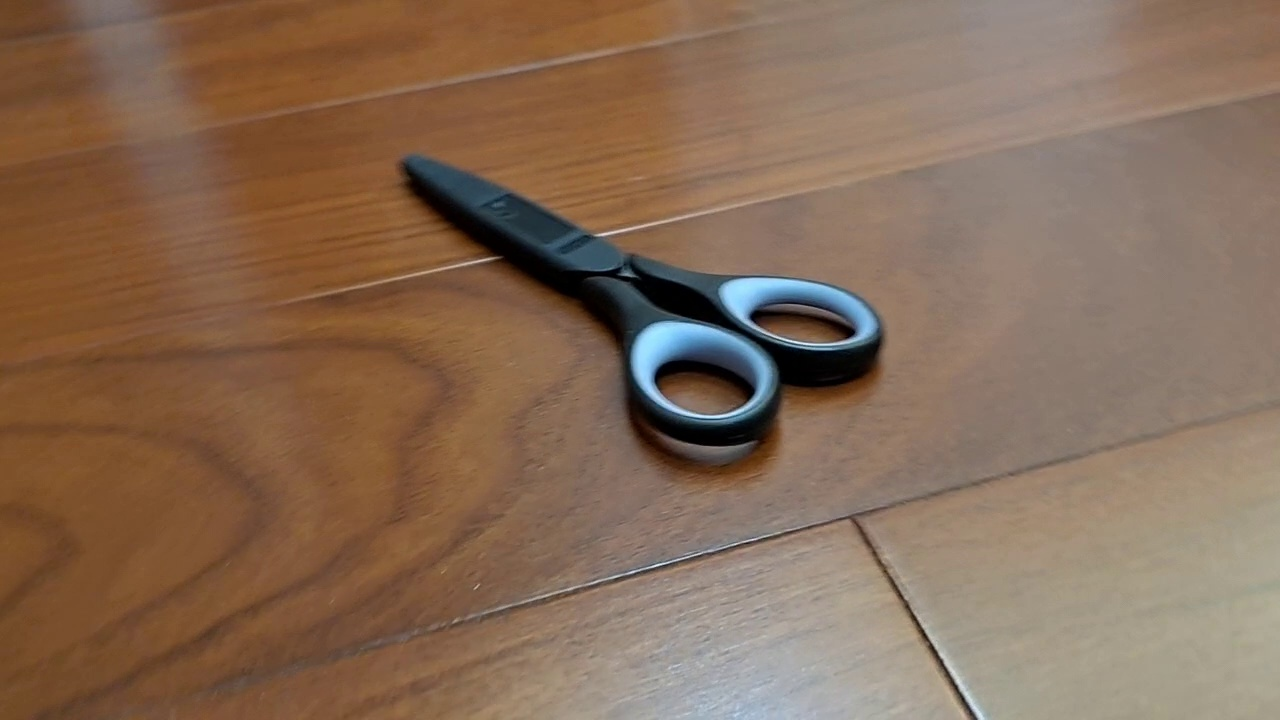scissors: (397, 152, 886, 448)
